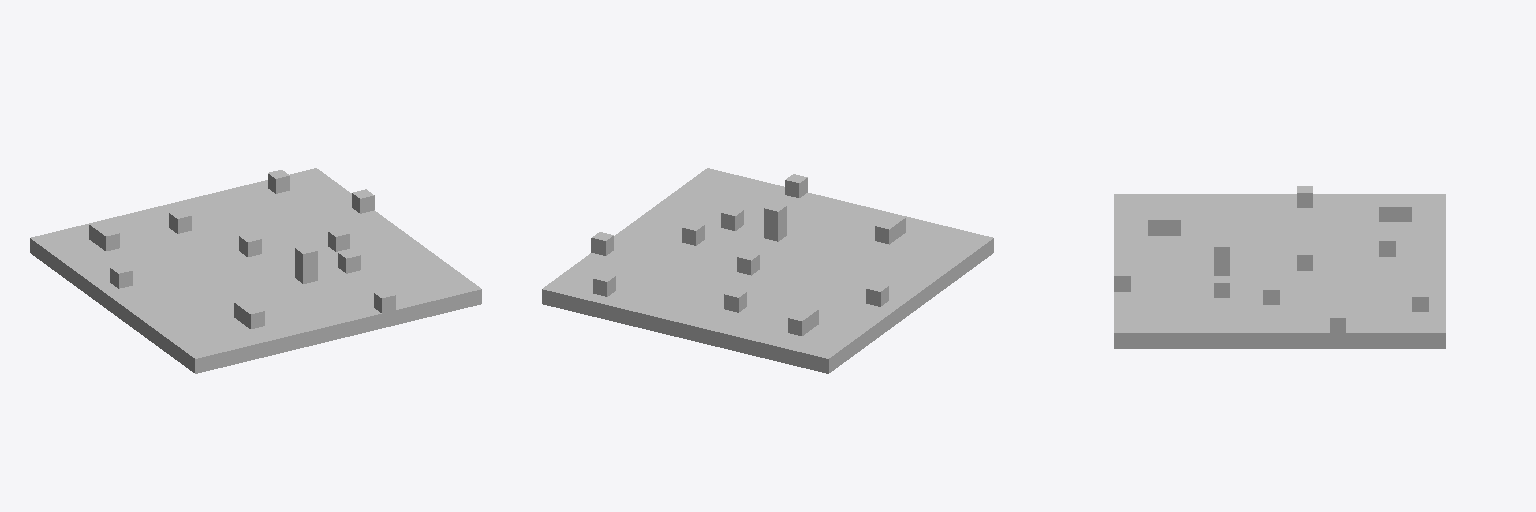
The model's file is env_grass.obj.
The picture shows the model from 3 angles: view 1: azimuth 30°, elevation 25°; view 2: azimuth 150°, elevation 25°; view 3: azimuth 270°, elevation 25°; orthographic projection.
Parts seen in each view (by area): view 1: env_grass; view 2: env_grass; view 3: env_grass.
Boxes of the visible parts, box(x1,y1,x2,y2) form: env_grass: box(30, 168, 481, 373); env_grass: box(542, 168, 993, 373); env_grass: box(1114, 186, 1445, 348).
Size of the model in its own units: 20 by 3 by 20.